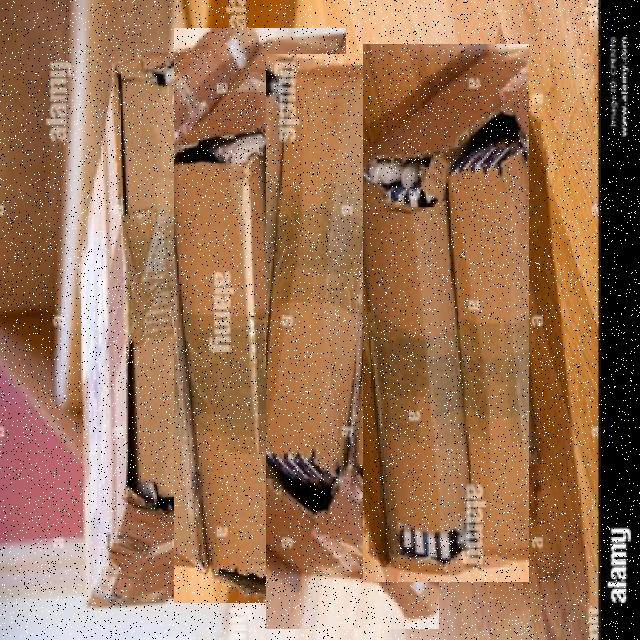defect: (63, 48, 254, 610), (266, 54, 439, 629), (174, 28, 346, 603), (363, 44, 529, 582)
